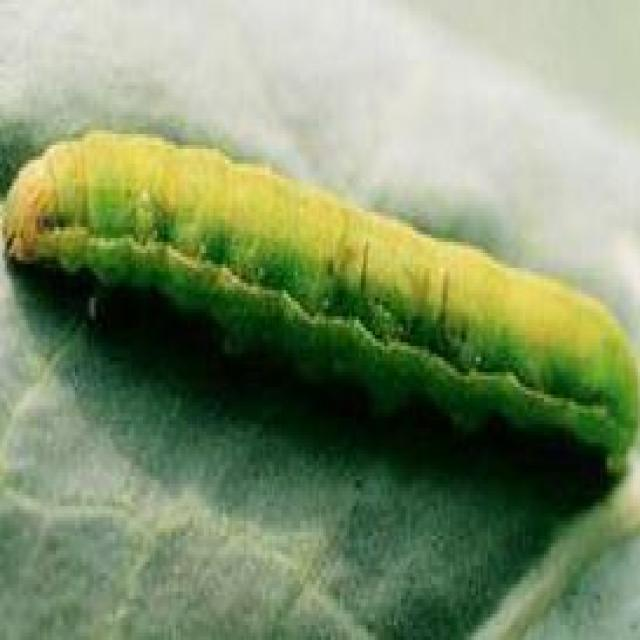BeetArmyWorm-Larva-: (0, 120, 638, 482)
